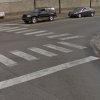Crosswalk: (4, 21, 68, 81)
